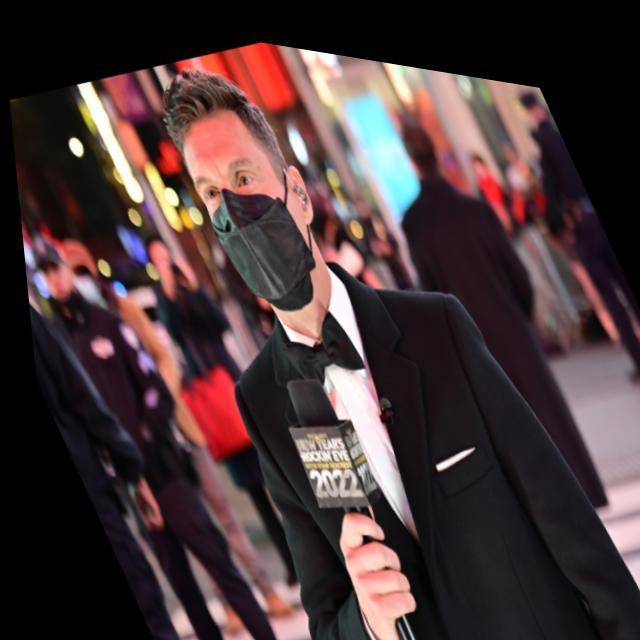Nonhelmet: (157, 66, 324, 311)
